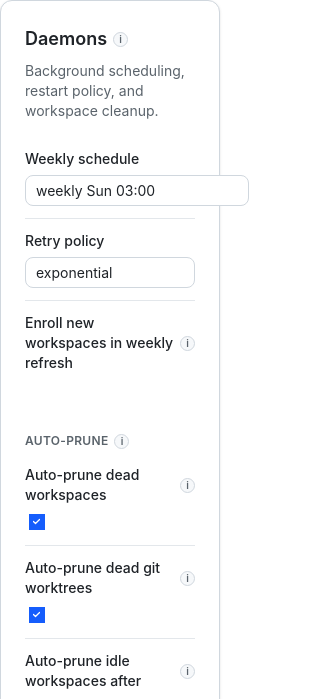
it: SectionDaemons (editable, A4-b PR #1 / Task 11) › Save button enables after changing the retry policy select
Select "linear" in the dropdown with test id "daemons-retry-policy-select" at point(110, 272), box [25,257,195,288]
(page scrolled)
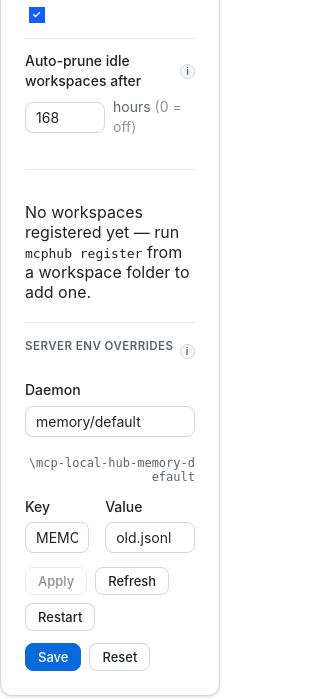
Check: the button with test id "daemons-save" is enabled, box [25,643,81,671]
